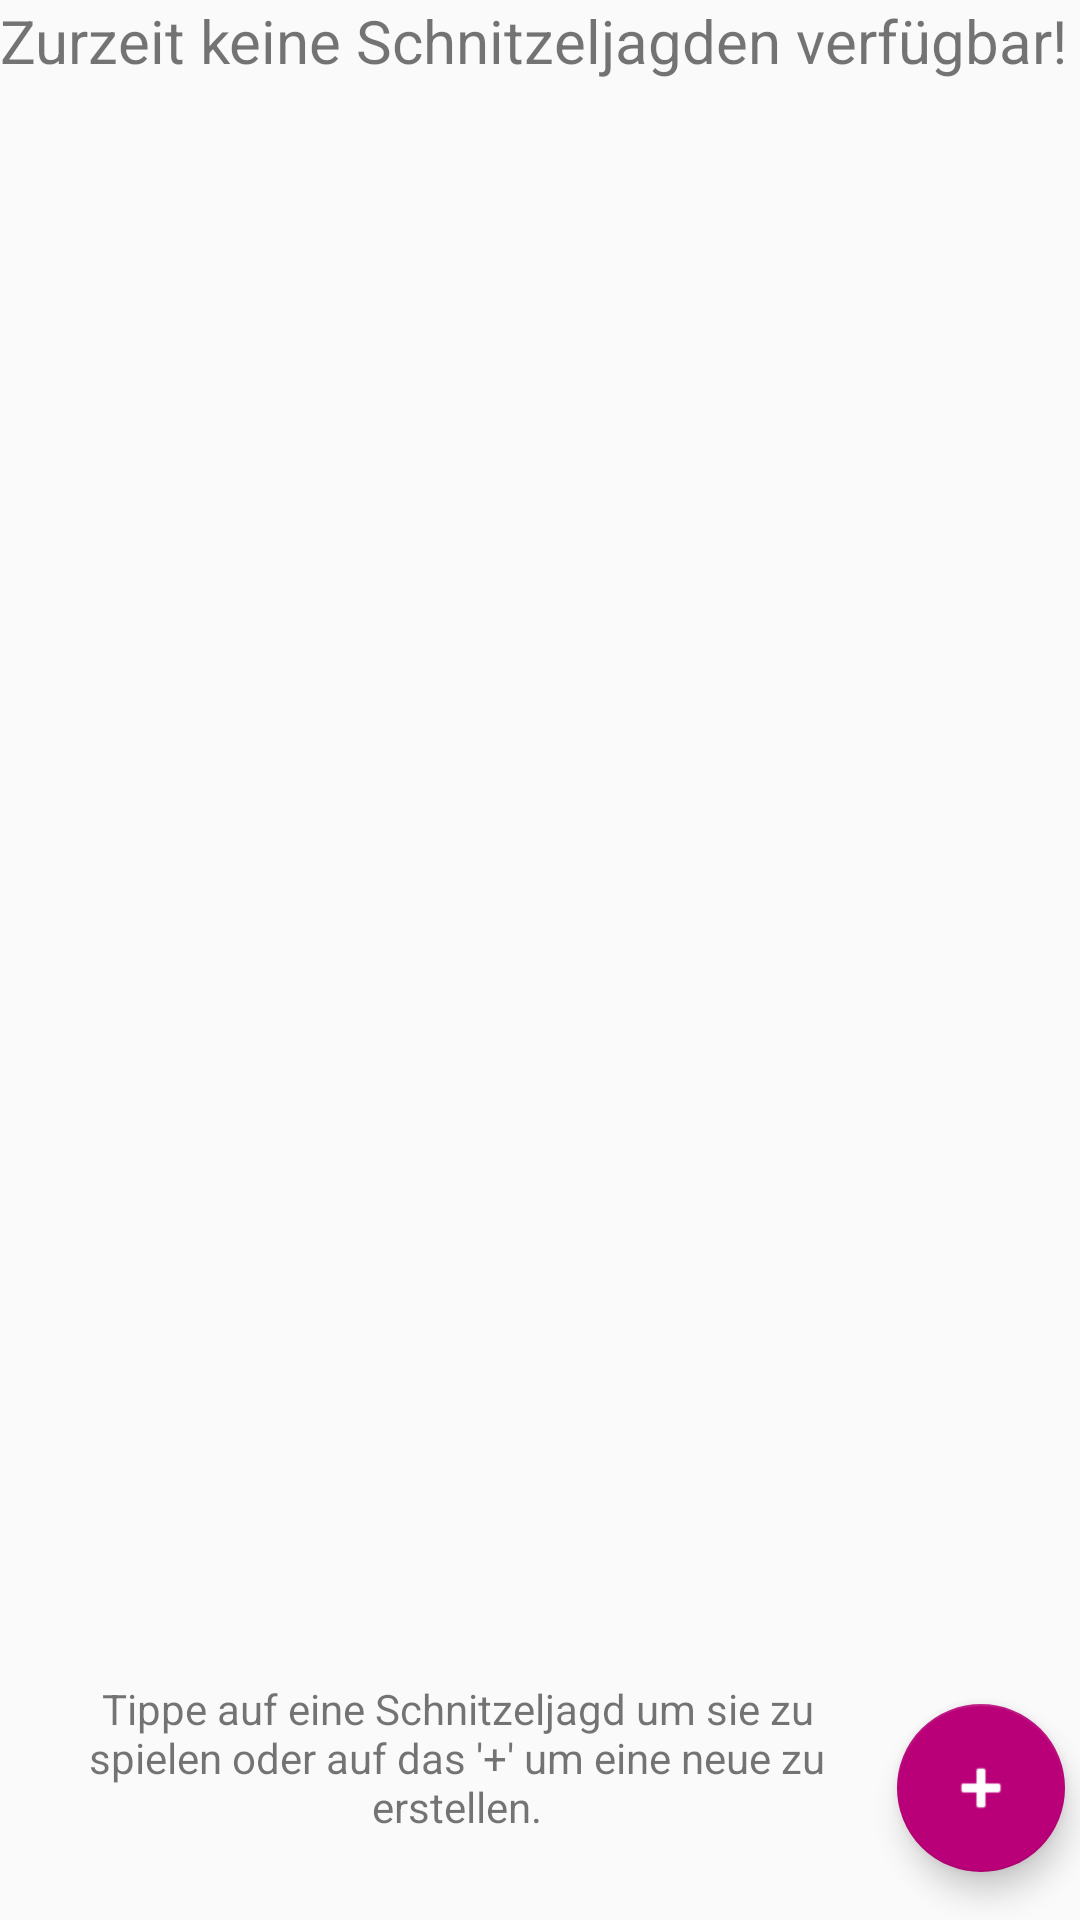

Named icons in this screenshot (1080px×1920px) and their centers, point (x, y):
add: point (981, 1788)
